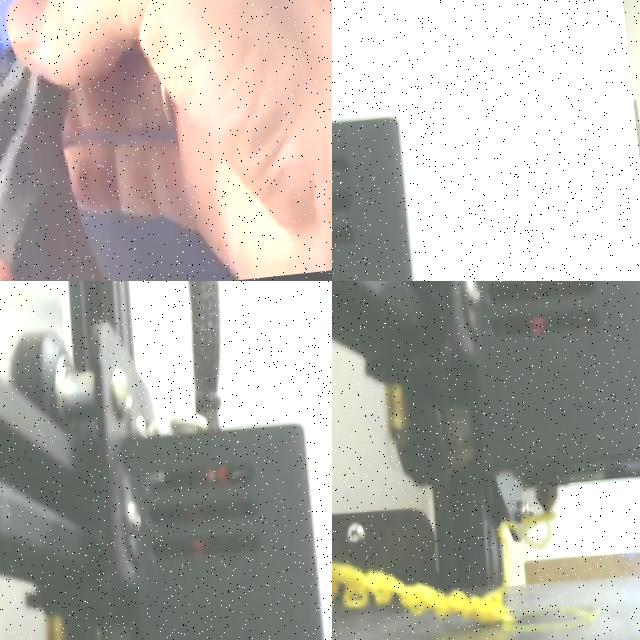spaghetti: (332, 562, 512, 623)
